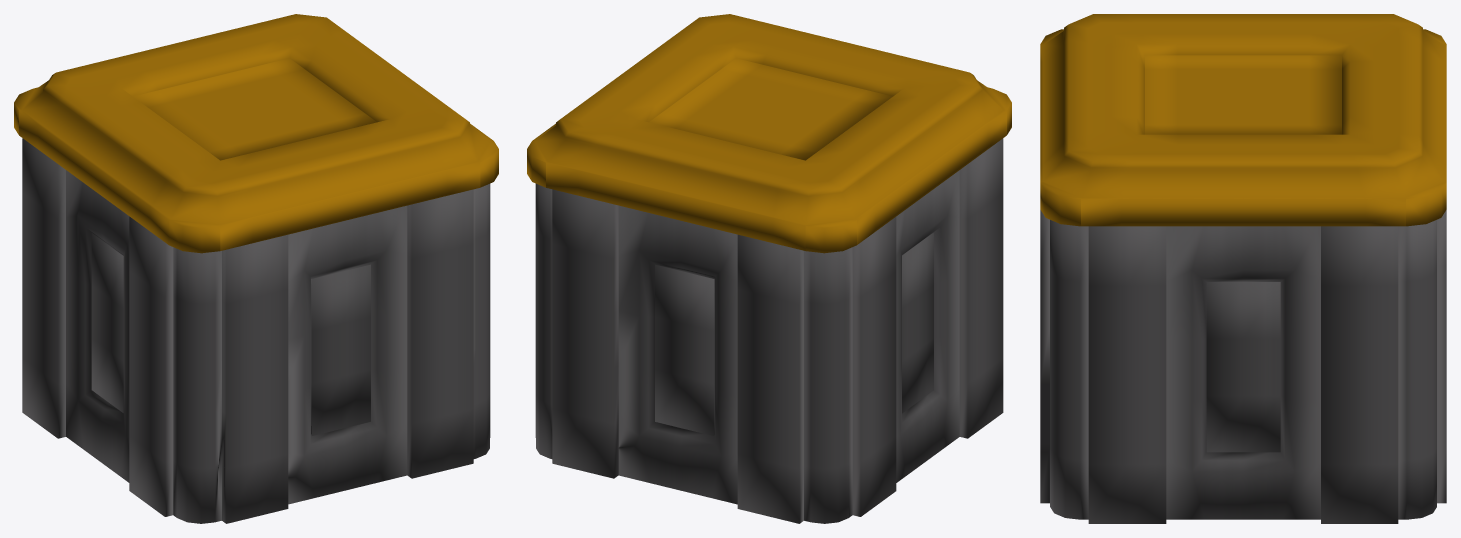
File: Crate base.glb
The picture shows the model from 3 angles, left to right: view 1: azimuth 30°, elevation 25°; view 2: azimuth 150°, elevation 25°; view 3: azimuth 270°, elevation 25°; orthographic projection. The views are drawn at different scales.
Visible parts, largest first — view 1: Plane, Plane.001; view 2: Plane, Plane.001; view 3: Plane, Plane.001.
Part boxes in pixels (x1,y1,x2,y2): Plane: (22, 138, 490, 523); Plane.001: (14, 14, 498, 253); Plane: (535, 138, 1003, 523); Plane.001: (527, 14, 1011, 253); Plane: (1040, 210, 1446, 523); Plane.001: (1040, 14, 1446, 226).
Size of the model in its own units: 2.1 by 2 by 2.1.
Materials: 2 (2 with a texture image).
